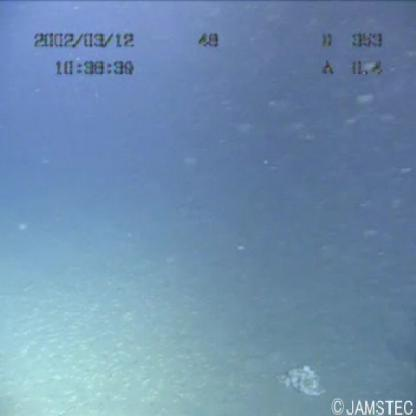Rác: (273, 360, 339, 404)
